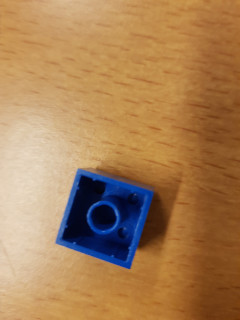2x2 blue: (53, 165, 157, 273)
